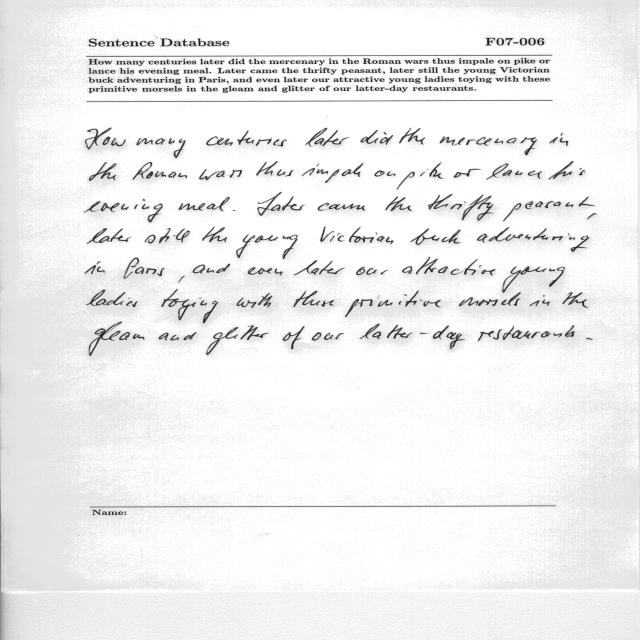word: (477, 227, 589, 252), (360, 324, 465, 349), (345, 291, 441, 317), (503, 197, 594, 221), (162, 289, 219, 323), (206, 325, 269, 355), (89, 322, 144, 356), (440, 136, 537, 155), (84, 199, 163, 222), (428, 194, 493, 221), (502, 266, 565, 293), (402, 257, 495, 275), (478, 325, 575, 341), (236, 235, 298, 259), (206, 131, 287, 147), (397, 163, 443, 190), (321, 227, 394, 244), (302, 163, 363, 183), (257, 192, 305, 216), (132, 162, 187, 180), (137, 138, 186, 158), (486, 163, 542, 180), (124, 257, 165, 279), (459, 293, 521, 307), (87, 290, 138, 307), (85, 128, 126, 149), (411, 228, 461, 245), (306, 128, 349, 147), (294, 261, 345, 276), (179, 197, 230, 211), (87, 228, 131, 244), (145, 228, 189, 244), (548, 161, 585, 180), (293, 291, 334, 308), (257, 161, 294, 177), (237, 293, 273, 308), (90, 162, 117, 181), (283, 326, 305, 349), (361, 130, 394, 145), (199, 169, 242, 180), (399, 128, 425, 145), (202, 227, 228, 243), (563, 292, 589, 308), (385, 197, 412, 212), (318, 203, 365, 211), (193, 264, 230, 274), (159, 332, 197, 341), (248, 267, 283, 276), (312, 332, 344, 341), (85, 261, 105, 274), (356, 267, 388, 275), (549, 133, 568, 146), (454, 169, 481, 178), (530, 295, 550, 306), (375, 171, 396, 177), (587, 214, 596, 220), (179, 276, 185, 282), (587, 338, 593, 340), (233, 210, 235, 211)
